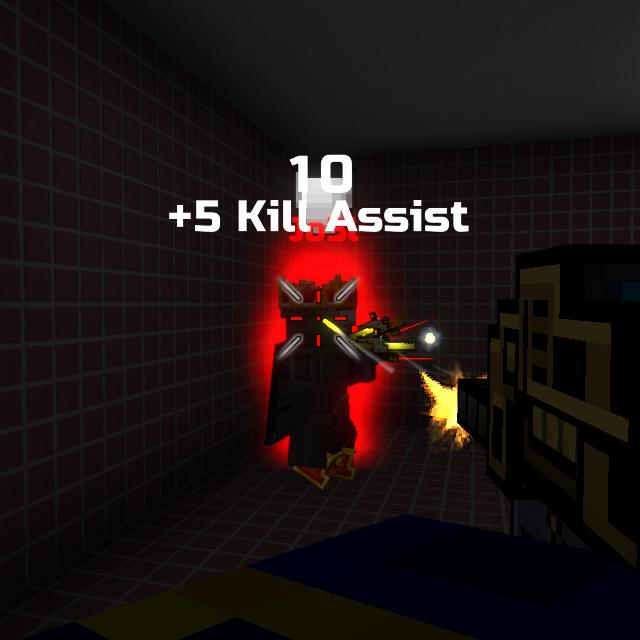Enemy: (267, 281, 375, 494)
